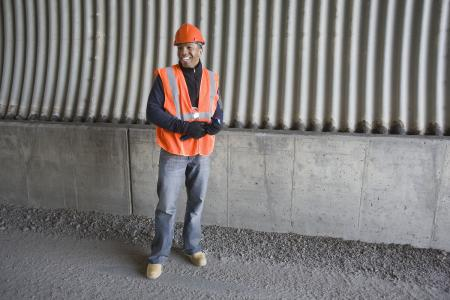helmet: (169, 18, 209, 69)
